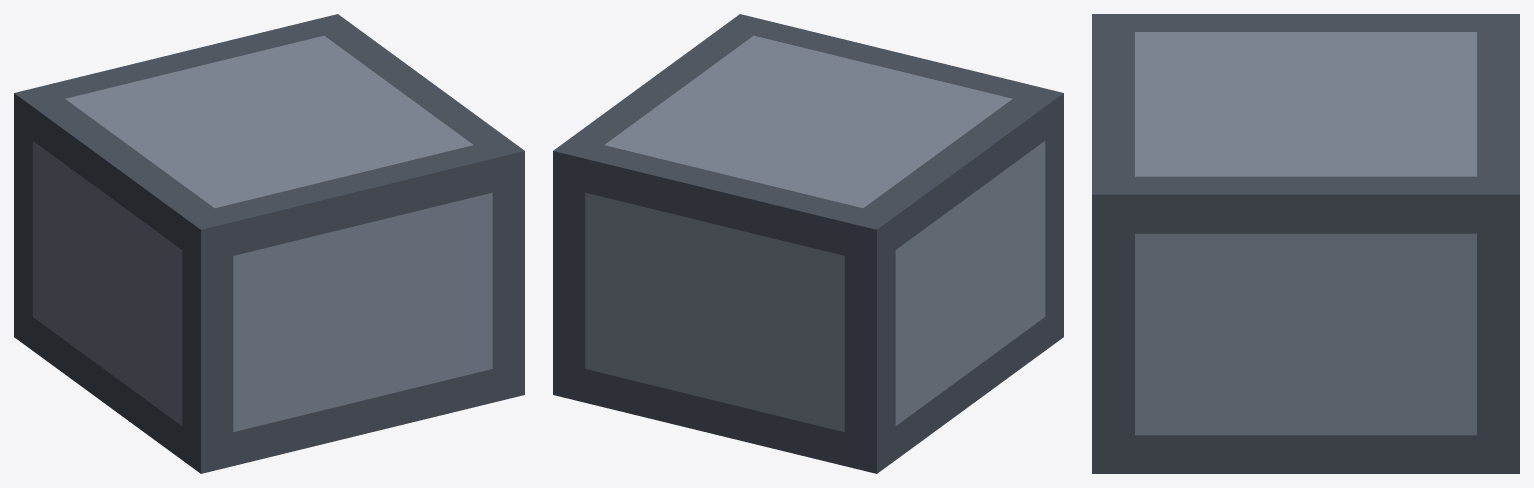
The model's file is crate.obj.
3 renders of one model, left to right at view 1: azimuth 30°, elevation 25°; view 2: azimuth 150°, elevation 25°; view 3: azimuth 270°, elevation 25°, orthographic. The views are drawn at different scales.
Visible parts, largest first — view 1: Crate; view 2: Crate; view 3: Crate.
Boxes of the visible parts, x1,y1,x2,y2 form: Crate: [14, 14, 524, 473]; Crate: [553, 14, 1063, 473]; Crate: [1092, 14, 1519, 473].
Bounding box in the file's own units: 1 × 0.72 × 1.
